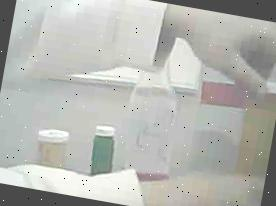Bottle A: (227, 70, 276, 182)
Bottle B: (30, 121, 73, 168)
Bottle C: (86, 123, 118, 176)
hazard: (120, 47, 191, 180)
